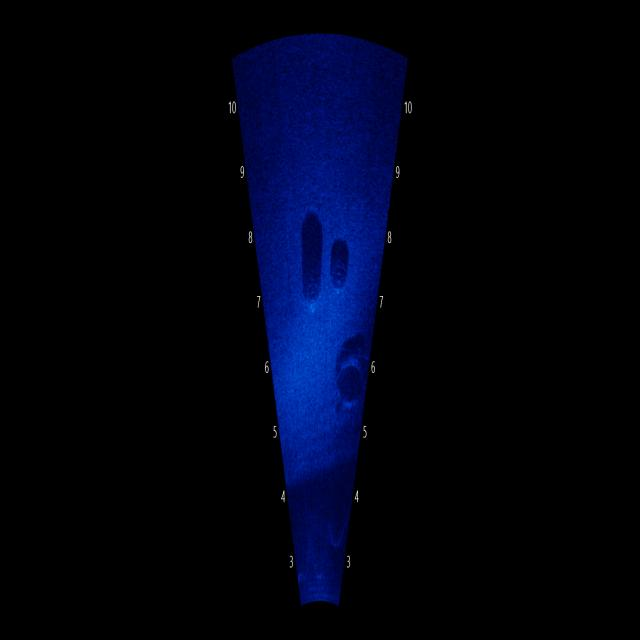circle: (324, 324, 378, 440), (326, 242, 355, 302), (300, 253, 323, 322)
